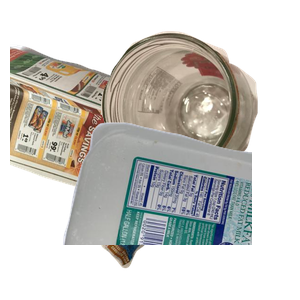glass: (98, 29, 300, 198)
paper: (10, 42, 224, 222)
plastic: (60, 120, 300, 300)
trash: (97, 151, 283, 300)
